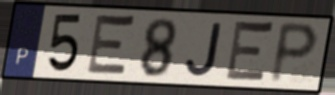5: (47, 13, 83, 74)
8: (139, 16, 179, 79)
E: (222, 17, 277, 87), (83, 11, 138, 80)
J: (184, 21, 225, 79)
P: (267, 20, 321, 87)
